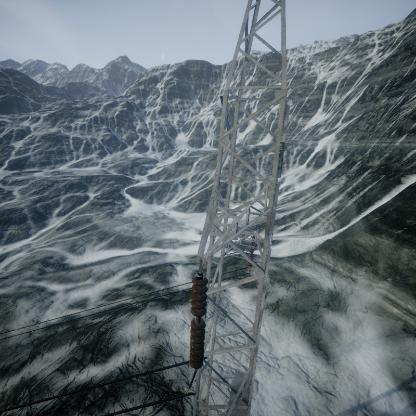insulator: (188, 271, 209, 369)
